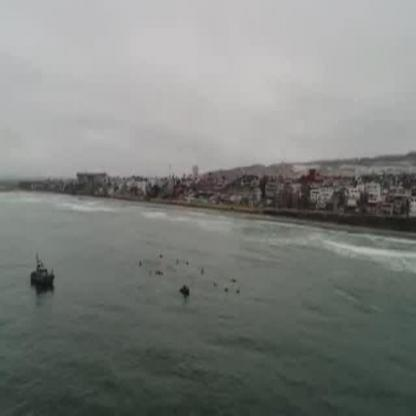Boat: (28, 252, 59, 299)
